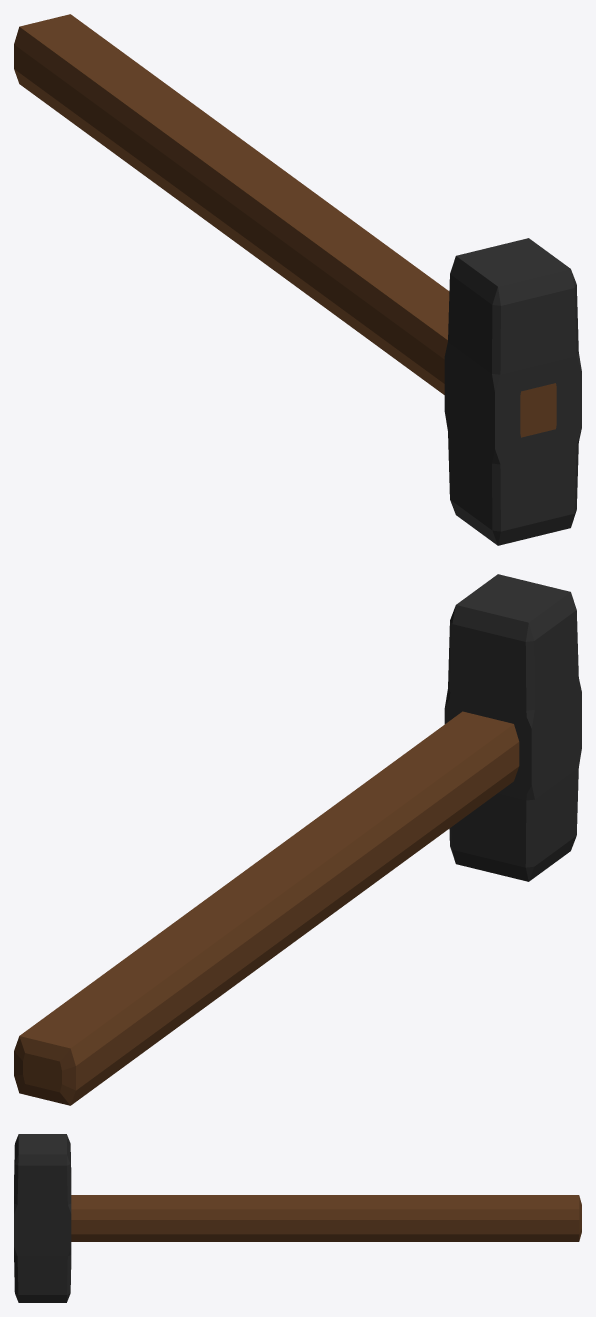
The model's file is sledge hammer.fbx.
The picture shows the model from 3 angles, top to bottom: view 1: azimuth 30°, elevation 25°; view 2: azimuth 150°, elevation 25°; view 3: azimuth 270°, elevation 25°; orthographic projection. The views are drawn at different scales.
Visible parts, largest first — view 1: Cube; view 2: Cube; view 3: Cube.
Part boxes in pixels (x1,y1,x2,y2): Cube: (14, 14, 581, 545); Cube: (14, 574, 581, 1105); Cube: (14, 1134, 581, 1302).
Size of the model in its own units: 208 by 2052 by 592.
